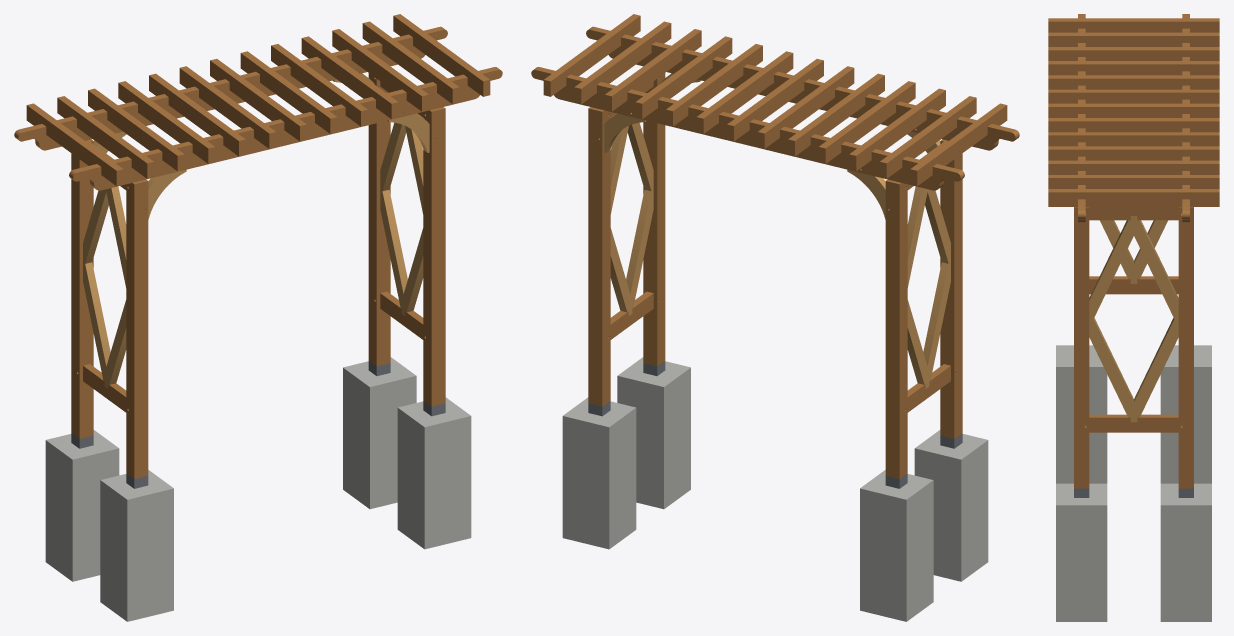
The model's file is tonnelle-jasmin.40c207616f.glb.
3 views of the same model, side by side, from view 1: azimuth 30°, elevation 25°; view 2: azimuth 150°, elevation 25°; view 3: azimuth 270°, elevation 25° (orthographic). The views are drawn at different scales.
Parts seen in each view (by area): view 1: Plots de fondation (4), Chevrons, Sablières (2), Poteau avant gauche, Poteau avant droit, Poteau arrière gauche, Poteau arrière droit, Losange — bas arrière (2), Losange — haut arrière (2), Losange — bas avant (2), Traverses basses (2), Losange — haut avant (2) (+3 smaller); view 2: Plots de fondation (4), Chevrons, Sablières (2), Poteau arrière gauche, Poteau arrière droit, Poteau avant gauche, Poteau avant droit, Losange — bas avant (2), Losange — haut avant (2), Losange — bas arrière (2), Traverses basses (2), Losange — haut arrière (2) (+3 smaller); view 3: Chevrons, Plots de fondation (4), Poteau arrière droit, Poteau avant droit, Traverses basses (2), Losange — bas arrière (2), Losange — bas avant (2), Losange — haut arrière (2), Losange — haut avant (2), Sablières (2), Entretoises hautes (2), Pieds de poteau (4).
Boxes of the visible parts, bbox=[...] form: Plots de fondation (4): bbox=[45, 357, 471, 621]; Chevrons: bbox=[26, 14, 490, 186]; Sablières (2): bbox=[14, 26, 502, 190]; Poteau avant gauche: bbox=[126, 179, 148, 478]; Poteau avant droit: bbox=[423, 107, 445, 406]; Poteau arrière gauche: bbox=[71, 139, 93, 438]; Poteau arrière droit: bbox=[368, 73, 390, 366]; Losange — bas arrière (2): bbox=[83, 190, 407, 387]; Losange — haut arrière (2): bbox=[83, 122, 406, 263]; Losange — bas avant (2): bbox=[106, 228, 423, 388]; Traverses basses (2): bbox=[83, 291, 423, 412]; Losange — haut avant (2): bbox=[106, 126, 423, 287]; Plots de fondation (4): bbox=[562, 357, 988, 621]; Chevrons: bbox=[543, 14, 1007, 186]; Sablières (2): bbox=[531, 26, 1019, 190]; Poteau arrière gauche: bbox=[885, 179, 907, 478]; Poteau arrière droit: bbox=[588, 107, 610, 406]; Poteau avant gauche: bbox=[940, 139, 962, 438]; Poteau avant droit: bbox=[643, 73, 665, 366]; Losange — bas avant (2): bbox=[626, 190, 950, 387]; Losange — haut avant (2): bbox=[627, 122, 950, 263]; Losange — bas arrière (2): bbox=[610, 228, 927, 388]; Traverses basses (2): bbox=[610, 291, 950, 412]; Losange — haut arrière (2): bbox=[610, 126, 927, 287]; Chevrons: bbox=[1048, 18, 1219, 206]; Plots de fondation (4): bbox=[1056, 345, 1211, 621]; Poteau arrière droit: bbox=[1178, 207, 1193, 488]; Poteau avant droit: bbox=[1074, 207, 1089, 488]; Traverses basses (2): bbox=[1089, 276, 1178, 432]; Losange — bas arrière (2): bbox=[1134, 220, 1178, 422]; Losange — bas avant (2): bbox=[1089, 220, 1133, 422]; Losange — haut arrière (2): bbox=[1134, 216, 1178, 318]; Losange — haut avant (2): bbox=[1089, 216, 1133, 318]; Sablières (2): bbox=[1078, 14, 1189, 222]; Entretoises hautes (2): bbox=[1089, 207, 1178, 220]; Pieds de poteau (4): bbox=[1074, 488, 1193, 497].
Size of the model in its own units: 2.76 by 2.81 by 1.
